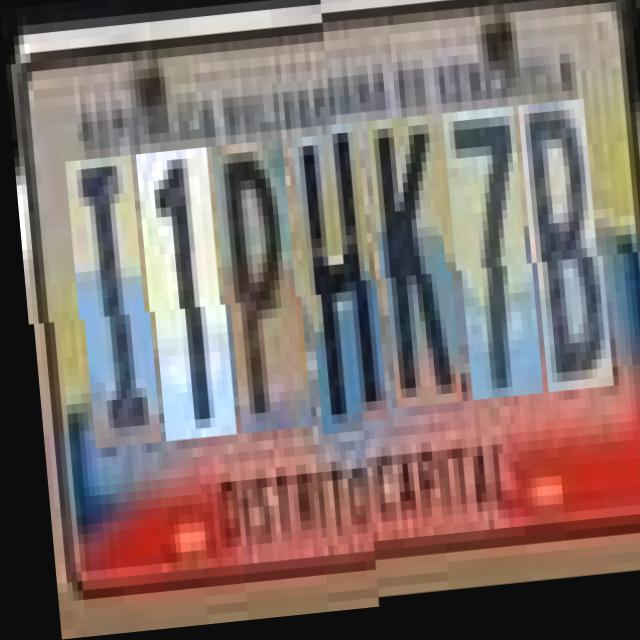1: (138, 151, 228, 444)
7: (444, 126, 536, 419)
B: (520, 120, 606, 413)
H: (294, 139, 380, 441)
I: (66, 157, 152, 450)
K: (369, 132, 455, 425)
P: (213, 144, 304, 438)
